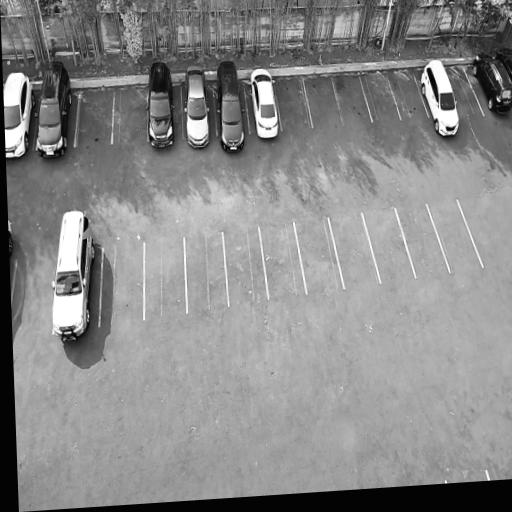Car: (51, 207, 97, 344), (415, 54, 464, 143), (35, 56, 74, 163), (213, 55, 249, 158), (466, 48, 512, 121), (3, 67, 37, 159), (182, 62, 215, 151), (246, 63, 282, 144), (147, 59, 178, 150)
Space Available: (395, 204, 449, 278), (363, 208, 415, 282), (329, 212, 380, 287), (294, 217, 344, 293), (428, 201, 482, 271), (99, 244, 144, 325), (184, 231, 229, 312), (223, 227, 269, 306), (11, 257, 55, 337), (260, 222, 306, 298), (144, 238, 186, 317), (75, 91, 114, 146), (386, 72, 429, 120), (303, 77, 343, 128), (446, 66, 484, 118), (360, 74, 401, 122), (112, 86, 146, 143), (332, 77, 372, 125), (274, 79, 312, 128)
